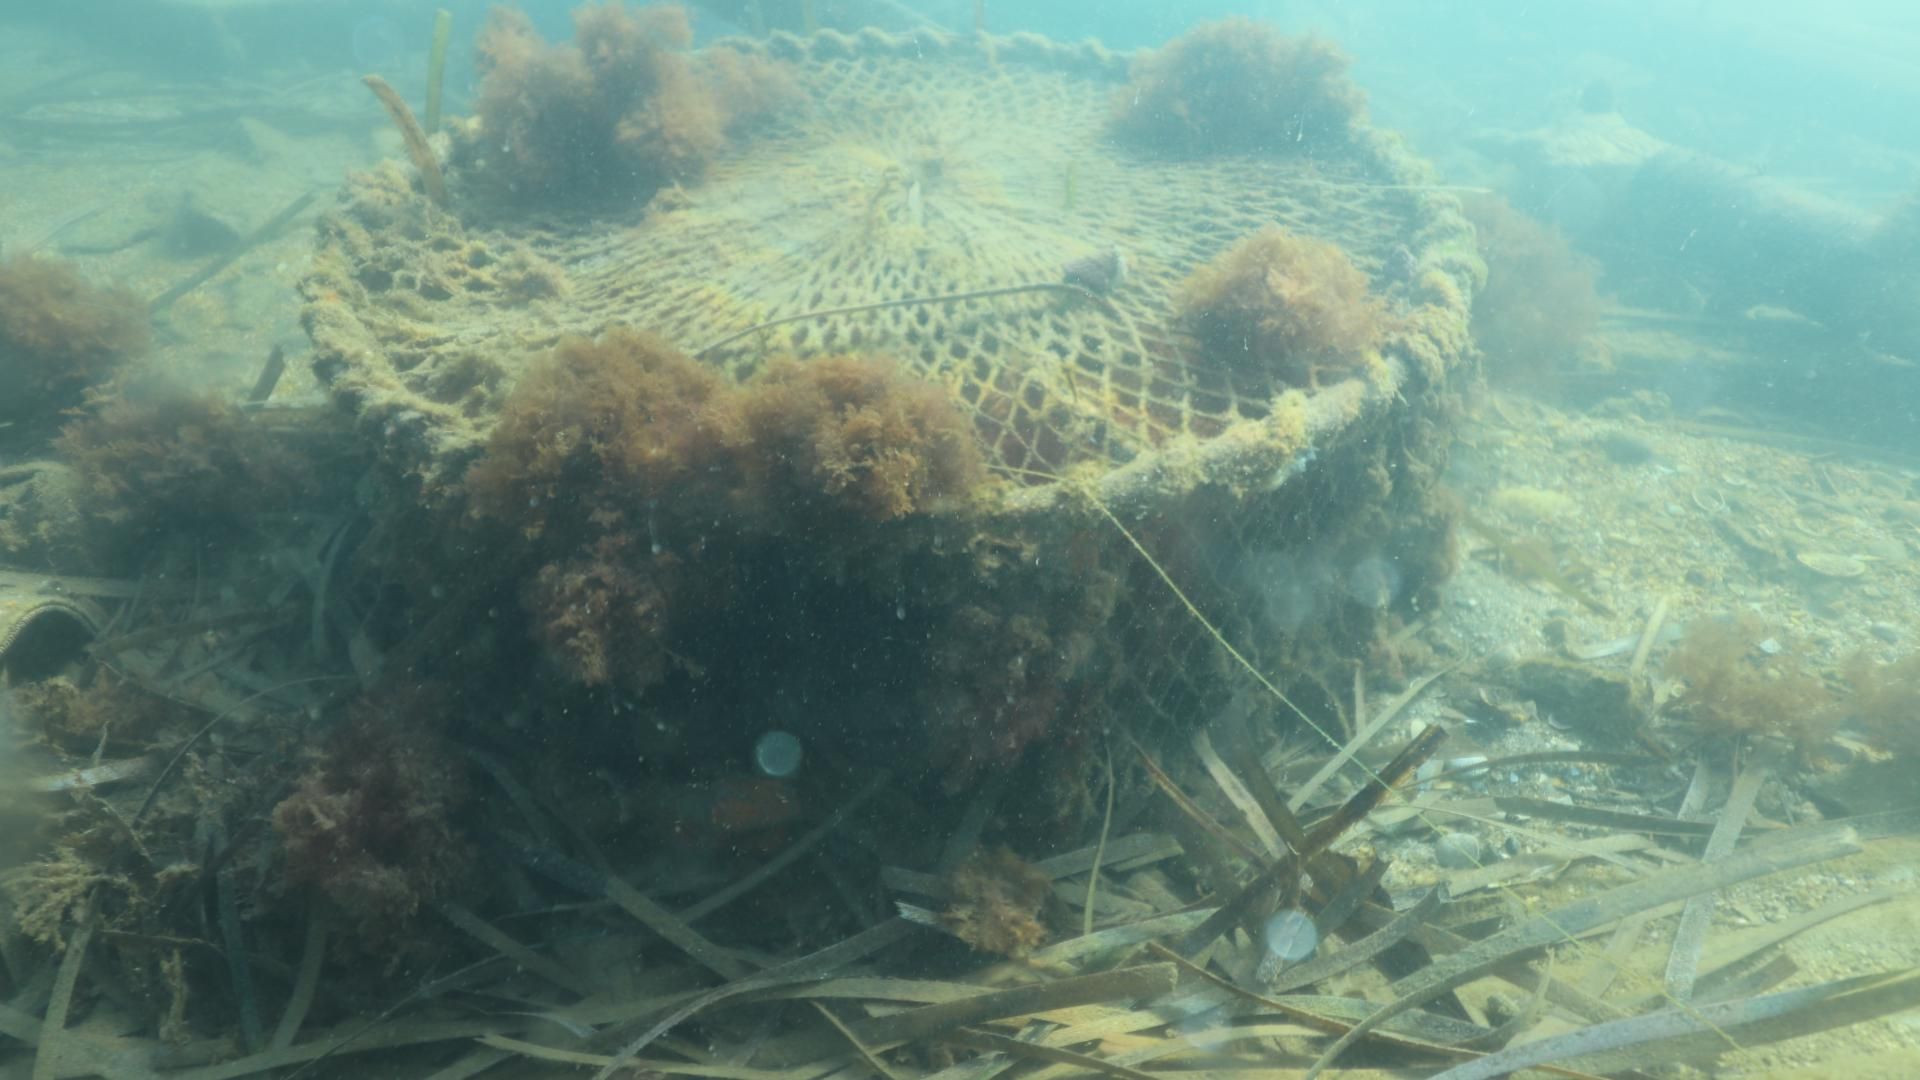circular fish trap: (302, 26, 1481, 848)
